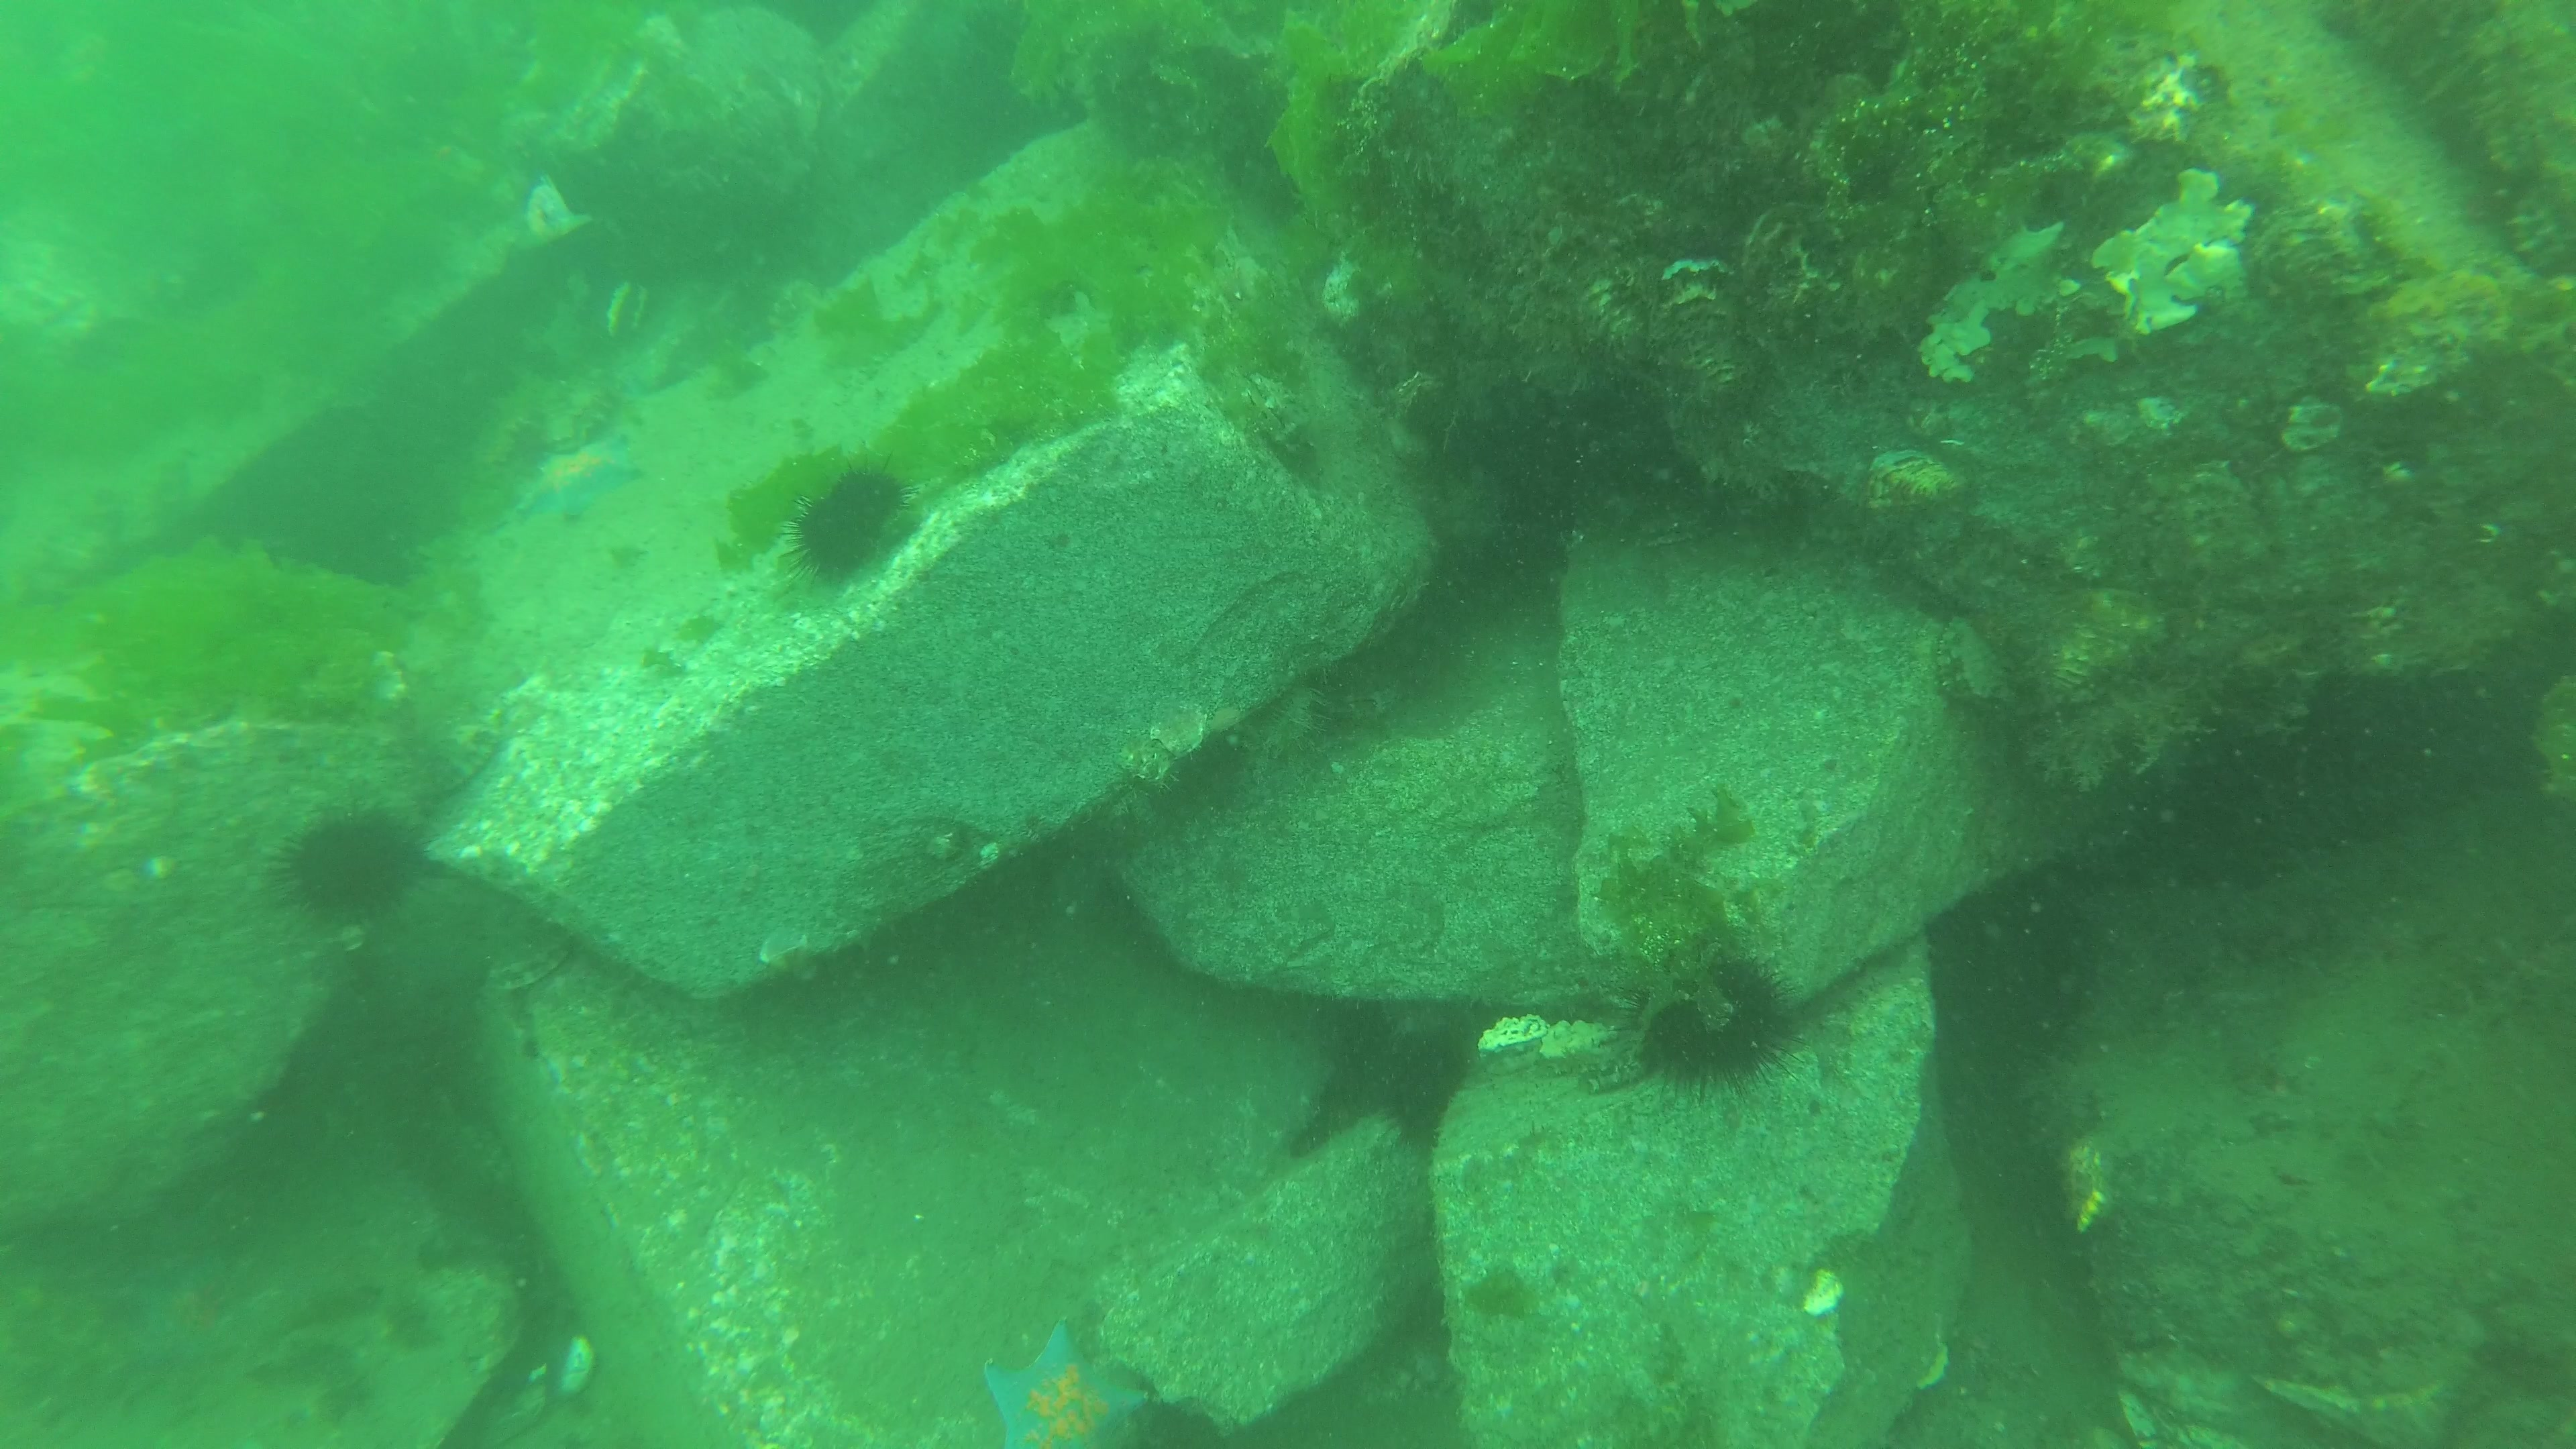echinus: (1633, 948, 1782, 1092), (283, 807, 428, 927), (794, 460, 911, 579), (1384, 1035, 1472, 1157)
starfish: (982, 1315, 1152, 1449), (131, 1261, 255, 1371), (515, 433, 644, 529)
